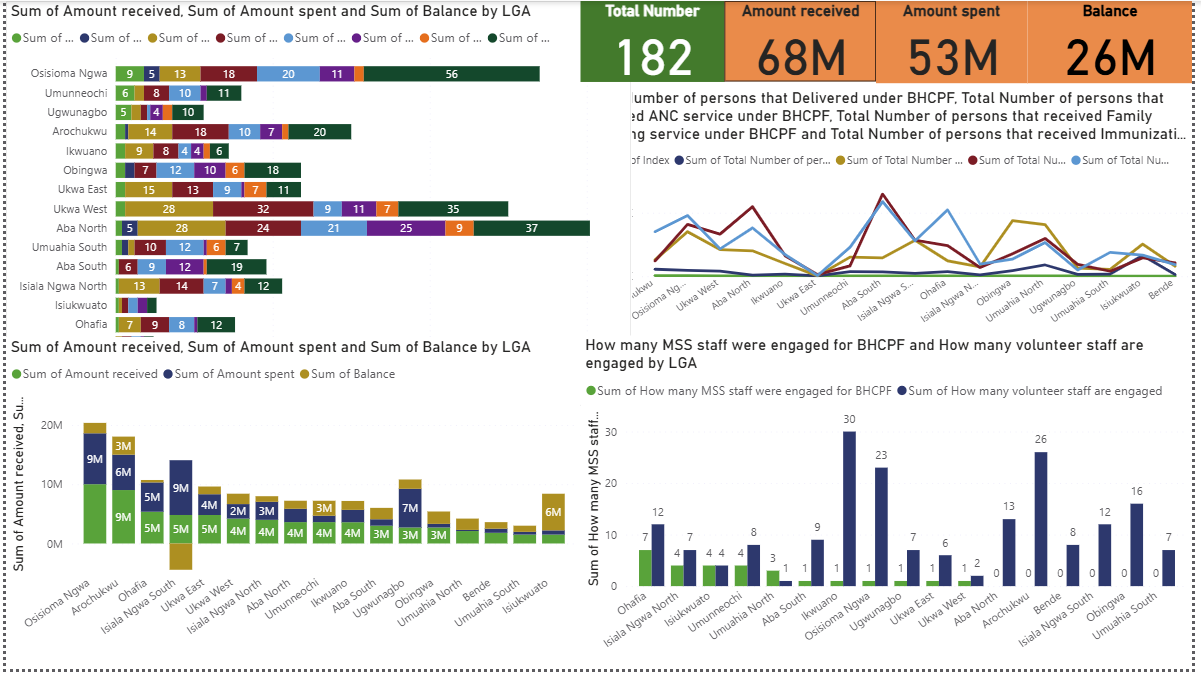

The dashboard page shown, as its layout file describes it:
{"tool":"powerbi","page":{"name":"Page 1","canvas":[1280,720],"ordinal":0},"visuals":[{"type":"lineChart","title":"Total Number of persons that Delivered under BHCPF, Total Number of persons that received ANC service under BHCPF, Total Number of persons that received Family Planning service under BHCPF and Total N","fields":{"Category":["BHCPF_Supportive_Supervision_Checklist_results (6).LGA.1.1"],"Y":["CountNonNull(BHCPF_Supportive_Supervision_Checklist_results (6).Index)","Sum(BHCPF_Supportive_Supervision_Checklist_results (6).Total Number of persons that Delivered under BHCPF)","Sum(BHCPF_Supportive_Supervision_Checklist_results (6).Total Number of persons that received ANC service under BHCPF)","Sum(BHCPF_Supportive_Supervision_Checklist_results (6).Total Number of persons that received Family Planning service und","Sum(BHCPF_Supportive_Supervision_Checklist_results (6).Total Number of persons that received Immunization Penta_3 under "]},"box":[619.7,93.8,660.1,263.7],"z":0},{"type":"barChart","title":"Sum of Amount received, Sum of Amount spent and Sum of Balance by LGA","fields":{"Category":["BHCPF_Supportive_Supervision_Checklist_results (6).LGA.1.1"],"Y":["Sum(BHCPF_Supportive_Supervision_Checklist_results (6).No of CHO)","Sum(BHCPF_Supportive_Supervision_Checklist_results (6).No of Doctors)","Sum(BHCPF_Supportive_Supervision_Checklist_results (6).No of Environmental health)","Sum(BHCPF_Supportive_Supervision_Checklist_results (6).No of Health attendant assistant)","Sum(BHCPF_Supportive_Supervision_Checklist_results (6).No of JCHEW)","Sum(BHCPF_Supportive_Supervision_Checklist_results (6).No of Lab technician)","Sum(BHCPF_Supportive_Supervision_Checklist_results (6).No of Medical record)","Sum(BHCPF_Supportive_Supervision_Checklist_results (6).No of SCHEW)"]},"box":[0,0,675,470],"z":1000},{"type":"columnChart","title":"Sum of Amount received, Sum of Amount spent and Sum of Balance by LGA","fields":{"Category":["BHCPF_Supportive_Supervision_Checklist_results (6).LGA.1.1"],"Y":["Sum(BHCPF_Supportive_Supervision_Checklist_results (6).Amount received)","Sum(BHCPF_Supportive_Supervision_Checklist_results (6).Amount spent)","Sum(BHCPF_Supportive_Supervision_Checklist_results (6).Balance)"]},"box":[0,361.7,620,358.3],"z":2000},{"type":"clusteredColumnChart","title":"How many MSS staff were engaged for BHCPF and How many volunteer staff are engaged by LGA","fields":{"Y":["Sum(BHCPF_Supportive_Supervision_Checklist_results (6).How many MSS staff were engaged for BHCPF)","Sum(BHCPF_Supportive_Supervision_Checklist_results (6).How many volunteer staff are engaged)"],"Category":["BHCPF_Supportive_Supervision_Checklist_results (6).LGA.1.1"]},"box":[620,360,660,360],"z":3000},{"type":"card","title":"Total Number","fields":{"Values":["CountNonNull(BHCPF_Supportive_Supervision_Checklist_results (6).Index)"]},"box":[619.7,0,155.3,87.4],"z":4000},{"type":"card","title":"Amount received","fields":{"Values":["Sum(BHCPF_Supportive_Supervision_Checklist_results (6).Amount received)"]},"box":[775,0,163.3,86.7],"z":5000},{"type":"card","title":"Amount spent","fields":{"Values":["Sum(BHCPF_Supportive_Supervision_Checklist_results (6).Amount spent)"]},"box":[938.3,0,163.3,88.3],"z":6000},{"type":"card","title":"Balance","fields":{"Values":["Sum(BHCPF_Supportive_Supervision_Checklist_results (6).Balance)"]},"box":[1101.7,0,178.3,88.3],"z":7000}]}

Visuals, with their boxes in screenshot pixels (x1, y1, x2, y2), scaled from the page's 1280x720 canvas onto the 1201x676 screenshot:
"Total Number of persons that Delivered under BHCPF, Total Number of persons that received ANC service under BHCPF, Total Number of persons that received Family Planning service under BHCPF and Total N" lineChart: [581,88,1200,336]
"Sum of Amount received, Sum of Amount spent and Sum of Balance by LGA" barChart: [0,0,633,441]
"Sum of Amount received, Sum of Amount spent and Sum of Balance by LGA" columnChart: [0,340,582,675]
"How many MSS staff were engaged for BHCPF and How many volunteer staff are engaged by LGA" clusteredColumnChart: [582,338,1200,675]
"Total Number" card: [581,0,727,82]
"Amount received" card: [727,0,880,81]
"Amount spent" card: [880,0,1034,83]
"Balance" card: [1034,0,1200,83]
